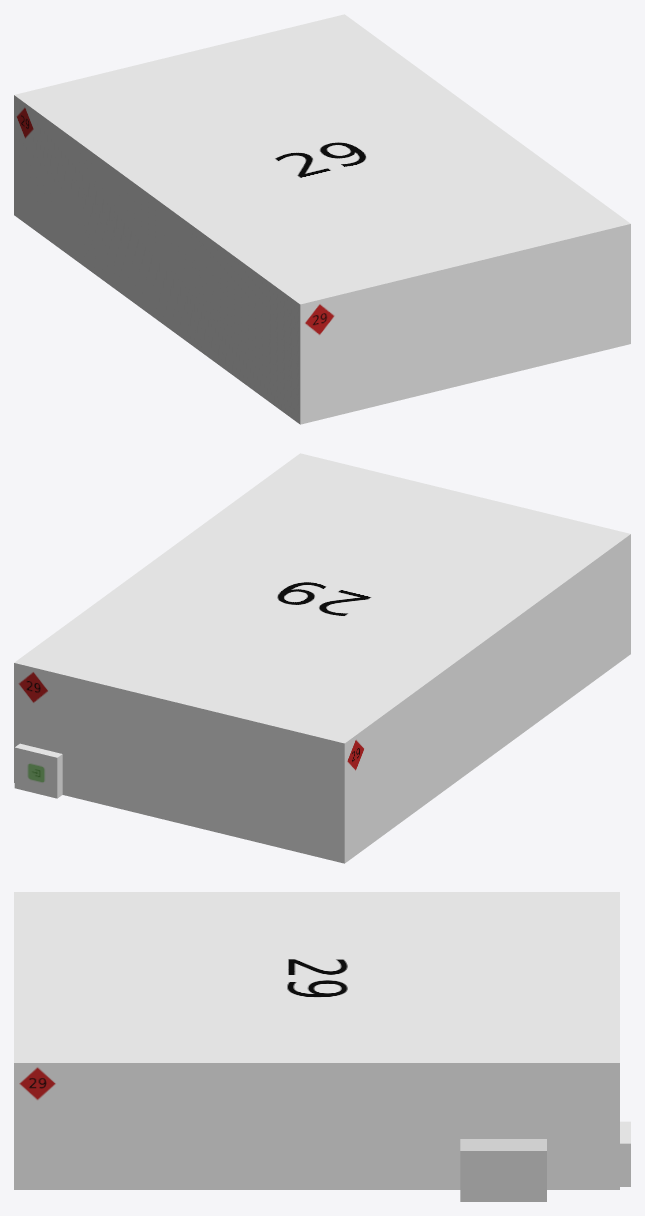
Rendered from Padiglione29.glb.
The picture shows the model from 3 angles, top to bottom: view 1: azimuth 30°, elevation 25°; view 2: azimuth 150°, elevation 25°; view 3: azimuth 270°, elevation 25°; orthographic projection. The views are drawn at different scales.
Visible parts, largest first — view 1: Padiglione 29; view 2: Padiglione 29, Ingresso Nord; view 3: Padiglione 29, Ingresso Padiglione 28, Ingresso Nord.
Boxes of the visible parts, left/top/right/bottom form: Padiglione 29: left=14, top=14, right=630, bottom=424; Padiglione 29: left=14, top=453, right=630, bottom=863; Ingresso Nord: left=14, top=743, right=62, bottom=798; Padiglione 29: left=14, top=892, right=619, bottom=1189; Ingresso Padiglione 28: left=460, top=1139, right=546, bottom=1201; Ingresso Nord: left=620, top=1121, right=630, bottom=1186.
Bounding box in the file's own units: 3.08 × 1 × 4.4.
2 materials, 2 textured.
